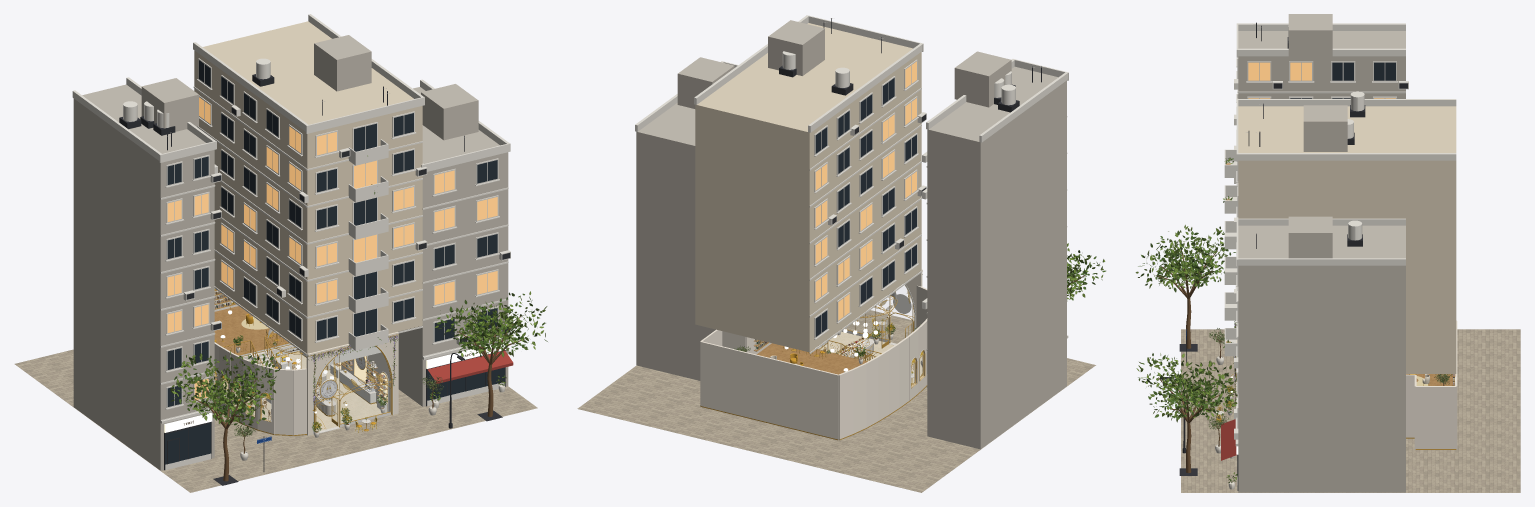
The model's file is flagship.glb.
3 renders of one model, left to right at view 1: azimuth 30°, elevation 25°; view 2: azimuth 150°, elevation 25°; view 3: azimuth 270°, elevation 25°, orthographic. The views are drawn at different scales.
Parts seen in each view (by area): view 1: bw3, facade_hi, bwtrim, win, paving, win_lit_n, leaf, plaster, leaf2, gold, iron, terrazzo (+7 smaller); view 2: bw3, facade_hi, paving, plaster, bwtrim, win, win_lit_n, gold, floor_wood, terrazzo, leaf, iron; view 3: bw3, facade_hi, paving, bwtrim, leaf, leaf2, plaster, trunk, iron, win_lit_n, win, aw_r.
Part boxes in pixels (x1=…): bw3: x1=73, y1=35, x2=508, y2=470; facade_hi: x1=194, y1=21, x2=422, y2=353; bwtrim: x1=72, y1=14, x2=510, y2=470; win: x1=165, y1=60, x2=504, y2=464; paving: x1=14, y1=349, x2=537, y2=492; win_lit_n: x1=167, y1=97, x2=497, y2=400; leaf: x1=170, y1=155, x2=547, y2=431; plaster: x1=214, y1=286, x2=390, y2=435; leaf2: x1=173, y1=184, x2=547, y2=436; gold: x1=214, y1=290, x2=398, y2=435; iron: x1=119, y1=74, x2=510, y2=485; terrazzo: x1=214, y1=347, x2=386, y2=430; bw3: x1=636, y1=20, x2=1066, y2=449; facade_hi: x1=695, y1=23, x2=921, y2=352; paving: x1=577, y1=310, x2=1095, y2=492; plaster: x1=700, y1=285, x2=927, y2=440; bwtrim: x1=635, y1=15, x2=1068, y2=387; win: x1=815, y1=78, x2=916, y2=336; win_lit_n: x1=815, y1=61, x2=916, y2=320; gold: x1=700, y1=286, x2=927, y2=440; floor_wood: x1=757, y1=343, x2=867, y2=374; terrazzo: x1=819, y1=331, x2=922, y2=383; leaf: x1=740, y1=243, x2=1105, y2=373; iron: x1=779, y1=18, x2=1041, y2=248; bw3: x1=1238, y1=14, x2=1405, y2=492; facade_hi: x1=1238, y1=106, x2=1456, y2=373; paving: x1=1181, y1=329, x2=1520, y2=492; bwtrim: x1=1224, y1=23, x2=1456, y2=490; leaf: x1=1135, y1=157, x2=1448, y2=482; leaf2: x1=1138, y1=158, x2=1452, y2=481; plaster: x1=1406, y1=321, x2=1457, y2=449; trunk: x1=1155, y1=250, x2=1445, y2=473; iron: x1=1160, y1=22, x2=1407, y2=490; win_lit_n: x1=1248, y1=62, x2=1395, y2=98; win: x1=1290, y1=62, x2=1395, y2=98; aw_r: x1=1221, y1=419, x2=1236, y2=460.
Bounding box in the file's own units: 31.32 × 28.19 × 29.9.
71 materials, 21 textured.
